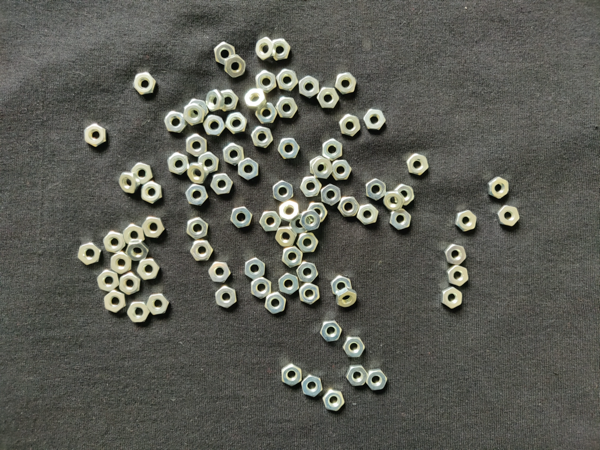nut: (78, 242, 102, 266), (84, 124, 107, 148), (133, 72, 157, 95), (167, 152, 190, 176), (224, 54, 247, 78), (104, 290, 127, 313), (215, 286, 238, 309), (164, 111, 187, 134), (183, 103, 206, 126), (251, 126, 274, 149), (302, 374, 324, 398), (408, 153, 430, 177), (97, 270, 120, 292), (104, 231, 126, 254), (147, 294, 170, 316), (142, 217, 165, 239), (226, 112, 248, 135), (214, 42, 236, 65), (223, 143, 245, 166), (265, 292, 287, 315), (255, 102, 278, 124), (277, 69, 299, 92), (278, 138, 301, 160), (320, 320, 343, 342), (275, 226, 298, 248), (300, 209, 322, 232), (339, 114, 361, 137), (441, 287, 463, 310), (444, 244, 467, 266), (110, 251, 131, 275), (137, 259, 161, 280), (141, 181, 162, 205), (186, 134, 207, 158), (256, 70, 277, 94), (255, 37, 276, 61), (131, 163, 153, 185), (186, 218, 208, 240), (186, 184, 208, 206), (187, 162, 209, 184), (245, 88, 267, 110), (335, 72, 357, 94), (296, 262, 318, 284), (364, 109, 386, 131), (357, 204, 379, 226), (390, 209, 412, 231), (127, 240, 150, 261), (230, 207, 253, 228), (317, 88, 340, 109), (259, 211, 282, 232), (273, 180, 294, 203), (343, 337, 366, 358), (346, 365, 369, 386), (311, 158, 334, 179), (455, 211, 478, 232), (497, 206, 520, 227), (190, 241, 214, 261), (128, 302, 150, 323), (119, 172, 140, 194), (209, 262, 231, 283), (198, 152, 219, 174), (203, 115, 225, 136), (211, 174, 233, 195), (238, 158, 259, 180), (245, 258, 266, 280), (251, 277, 272, 299), (276, 98, 298, 119), (299, 76, 320, 98), (323, 390, 344, 412), (299, 283, 320, 305), (282, 246, 303, 268), (297, 233, 319, 254), (447, 266, 469, 287), (488, 177, 509, 199), (205, 89, 225, 112), (279, 273, 299, 296), (366, 369, 387, 390), (279, 201, 300, 222), (120, 273, 140, 295), (282, 364, 302, 386), (289, 214, 311, 234), (321, 184, 341, 206), (323, 139, 343, 161), (338, 197, 360, 217), (366, 178, 386, 200), (384, 192, 406, 212), (395, 184, 415, 206), (188, 99, 209, 119), (336, 288, 357, 308), (331, 276, 352, 296), (307, 203, 328, 223), (301, 177, 322, 197), (273, 38, 291, 61), (124, 225, 144, 245), (332, 160, 352, 180), (221, 90, 239, 112), (311, 156, 326, 175)
